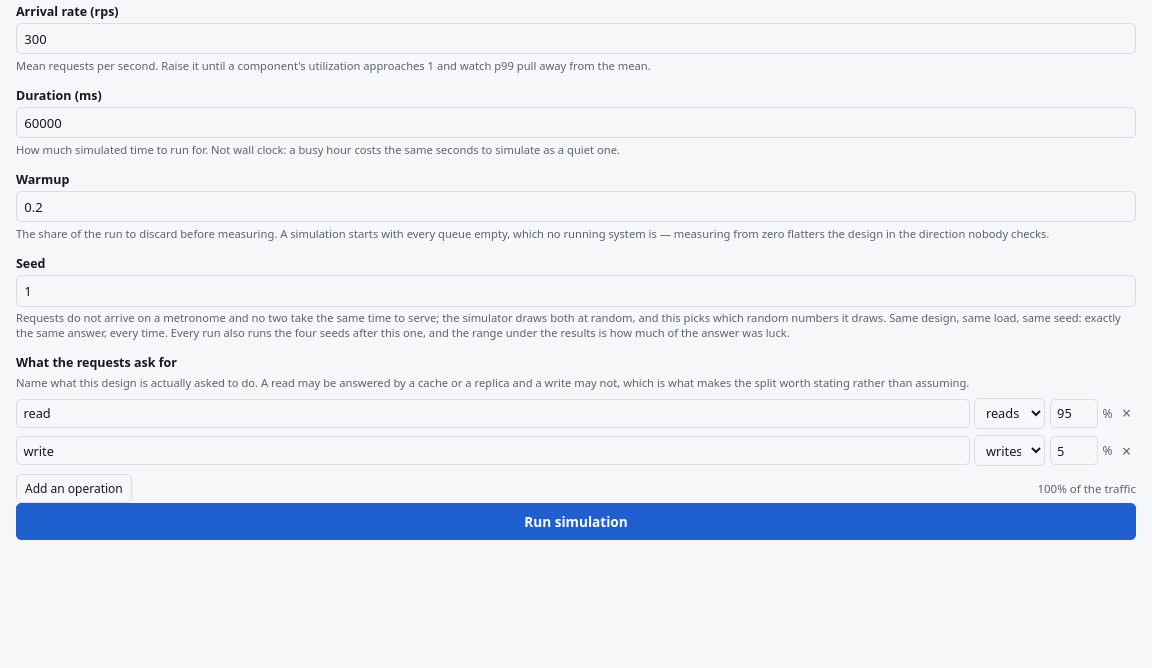
Test: SimulationPanel › says why there is no bottleneck when the engine names none
This screenshot has width=1152, height=668.
Click the button "Run simulation".
click(576, 522)  # box [16, 503, 1136, 540]
(page scrolled)
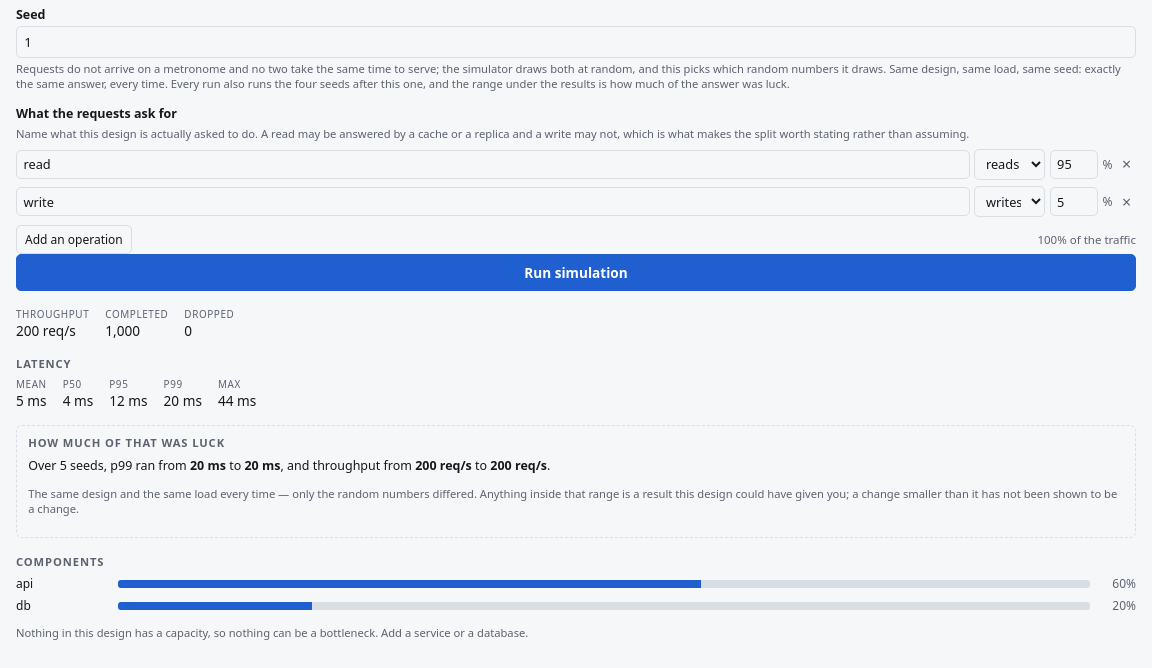
expect the text "Nothing in this design has a capacity" is shown: met, box [16, 625, 528, 640]
